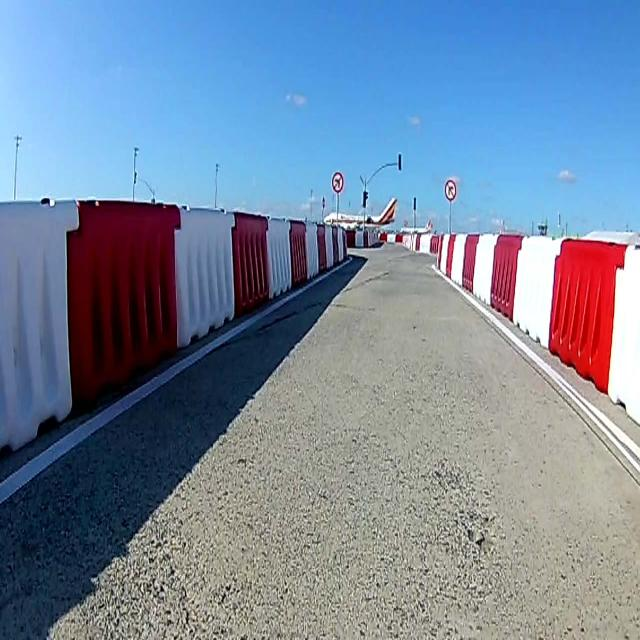sagadonulmez: (444, 179, 456, 199)
soladonulmez: (331, 172, 343, 194)
